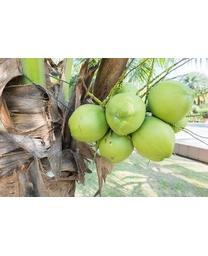coconut: (131, 116, 176, 160), (146, 85, 192, 125), (104, 92, 145, 136), (64, 103, 108, 142), (100, 130, 133, 161)
